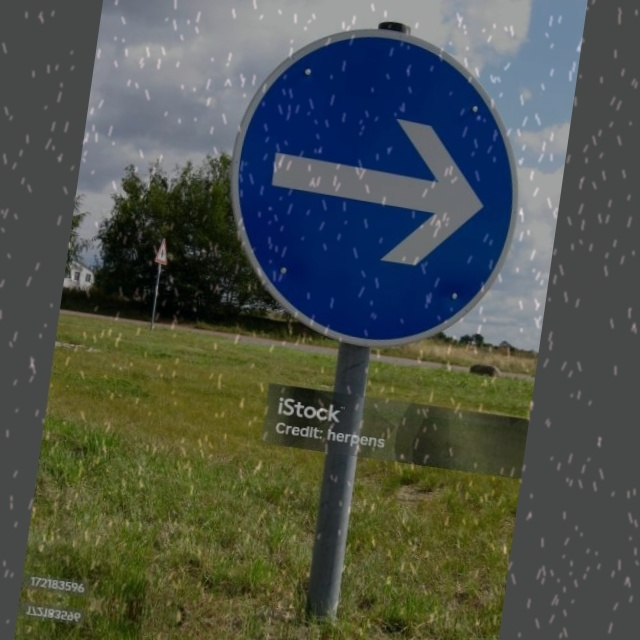Compulsory_Turn_Right: (212, 12, 544, 359)
